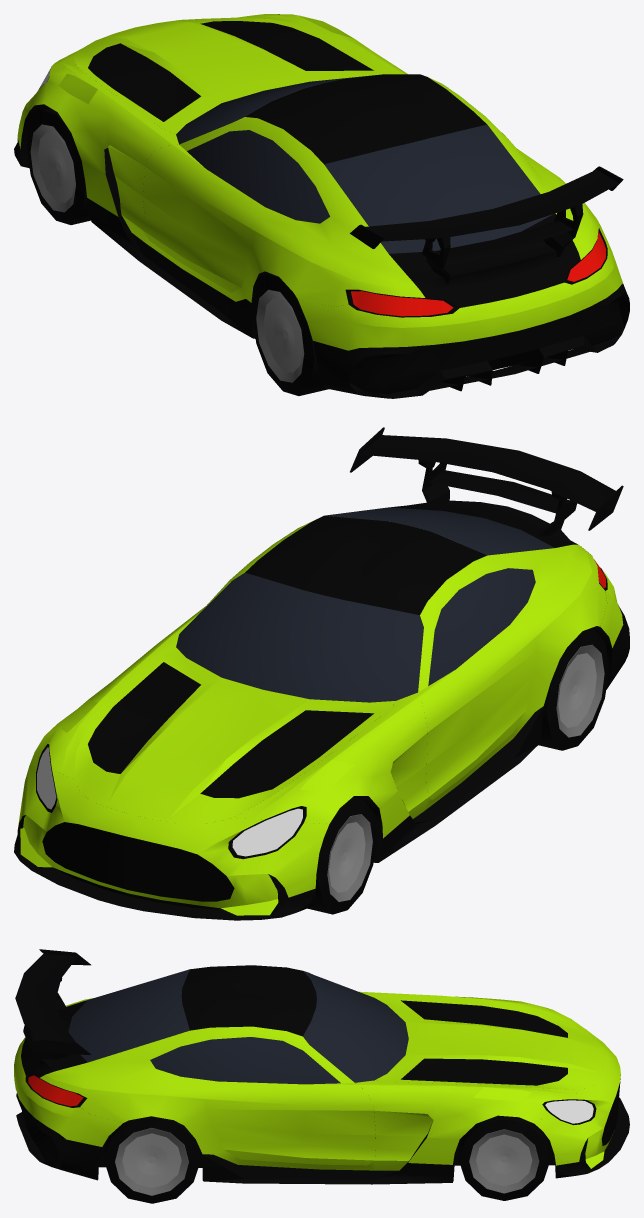
Rendered from mercedes.fbx.
3 renders of one model, top to bottom at view 1: azimuth 30°, elevation 25°; view 2: azimuth 150°, elevation 25°; view 3: azimuth 270°, elevation 25°, orthographic. The views are drawn at different scales.
Visible parts, largest first — view 1: Paint.009, Body.008, Window.007, Rims.008, Tires.008, Rear.008; view 2: Paint.009, Body.008, Window.007, Rims.008, Tires.008, Front.007; view 3: Paint.009, Body.008, Window.007, Rims.008, Tires.008, Front.007, Rear.008.
Boxes of the visible parts, x1,y1,x2,y2 form: Paint.009: (17, 14, 622, 350); Body.008: (14, 14, 629, 398); Window.007: (176, 75, 553, 253); Rims.008: (30, 124, 304, 382); Tires.008: (26, 108, 346, 395); Rear.008: (351, 231, 606, 316); Paint.009: (17, 516, 623, 915); Body.008: (14, 427, 629, 920); Window.007: (176, 507, 554, 702); Rims.008: (327, 644, 604, 901); Tires.008: (307, 628, 609, 914); Front.007: (37, 747, 302, 856); Paint.009: (14, 991, 620, 1170); Body.008: (15, 949, 629, 1184); Window.007: (68, 969, 408, 1084); Rims.008: (115, 1128, 539, 1195); Tires.008: (103, 1115, 550, 1203); Front.007: (545, 1100, 593, 1123); Rear.008: (28, 1075, 83, 1106).
Size of the model in its own units: 201 by 131 by 459.
